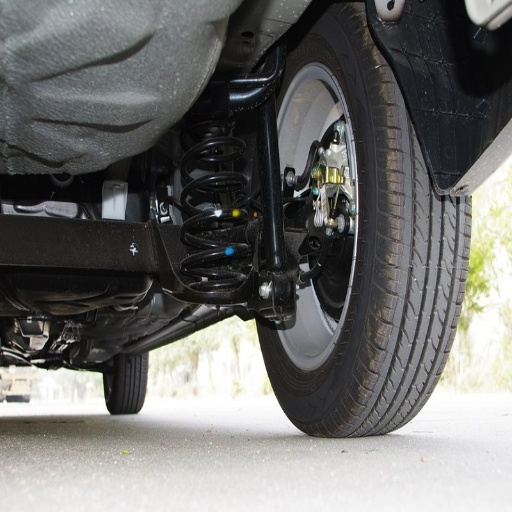trunk: (101, 11, 153, 57)
